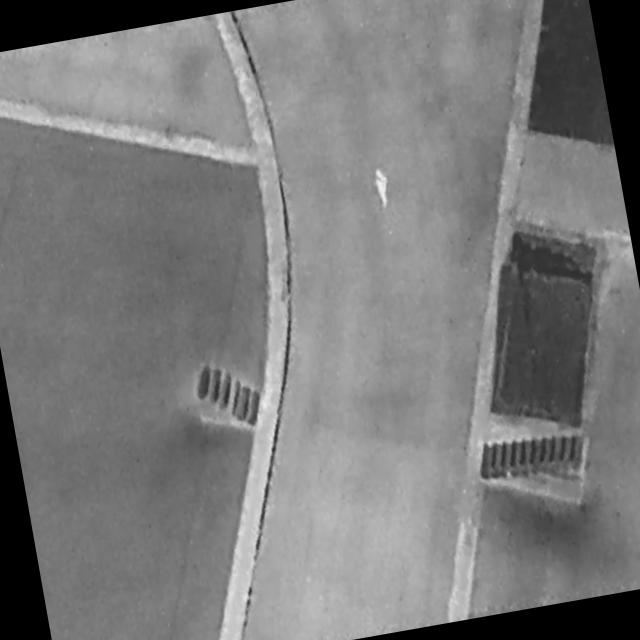person: (370, 164, 395, 211)
